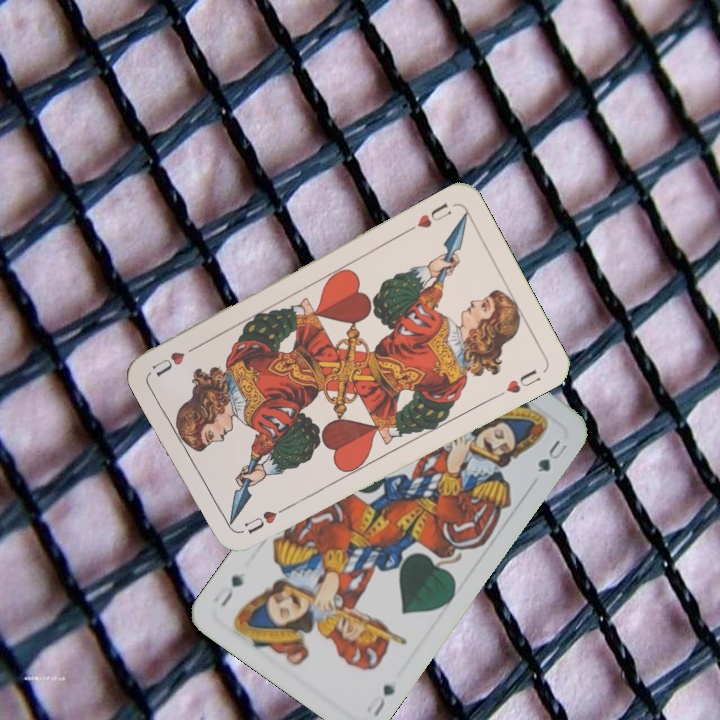GU: (369, 680, 398, 719)
HU: (403, 199, 454, 235), (240, 502, 290, 537)
